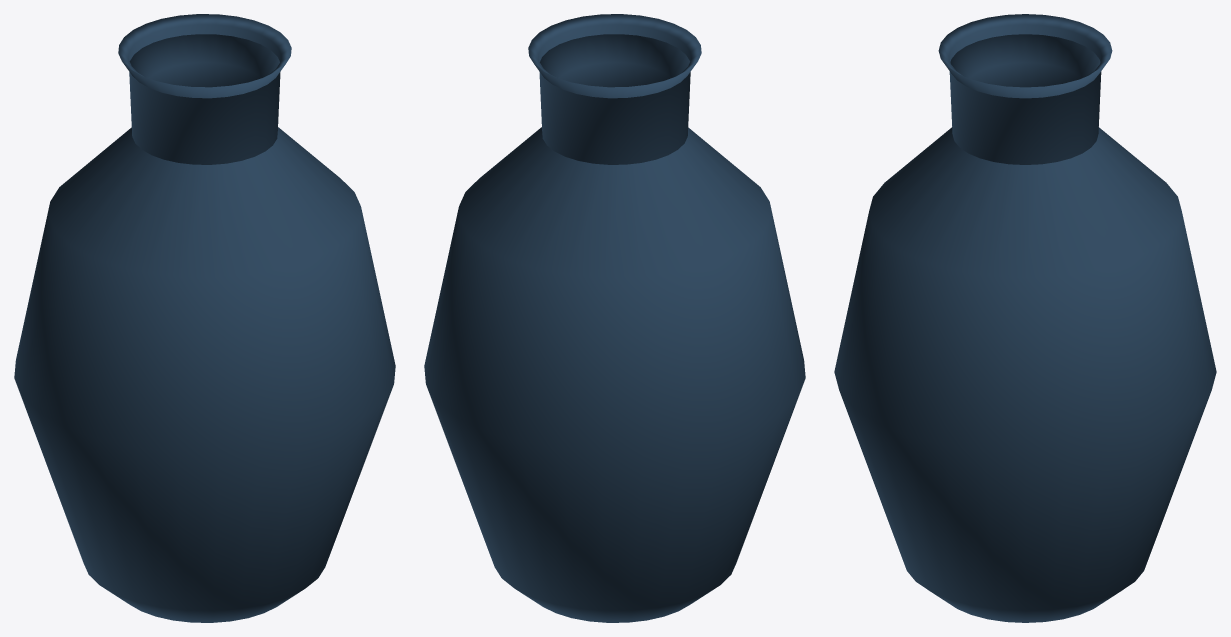
The model's file is i_vase_0_1.glb.
3 renders of one model, left to right at view 1: azimuth 30°, elevation 25°; view 2: azimuth 150°, elevation 25°; view 3: azimuth 270°, elevation 25°, orthographic.
Parts seen in each view (by area): view 1: o; view 2: o; view 3: o.
Part boxes in pixels (bbox=[...]): o: bbox=[14, 14, 395, 622]; o: bbox=[424, 14, 805, 622]; o: bbox=[834, 14, 1216, 622].
Bounding box in the file's own units: 0.22 × 0.34 × 0.22.
